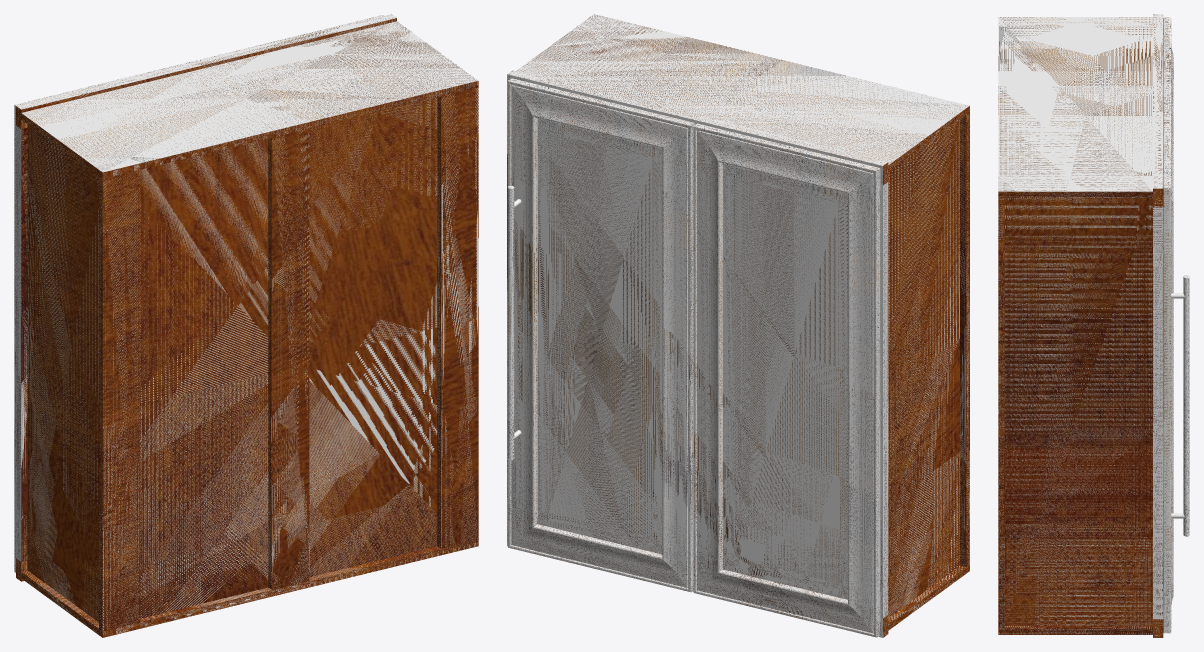
3 views of the same model, side by side, from view 1: azimuth 30°, elevation 25°; view 2: azimuth 150°, elevation 25°; view 3: azimuth 270°, elevation 25° (orthographic). The views are drawn at different scales.
Parts seen in each view (by area): view 1: mesh6_mesh6-geometry, mesh3_mesh3-geometry, mesh7_mesh7-geometry, mesh2_mesh2-geometry, mesh4_mesh4-geometry, mesh8_mesh8-geometry, mesh10_mesh10-geometry, mesh25_mesh25-geometry, mesh20_mesh20-geometry; view 2: mesh16_mesh16-geometry, mesh2_mesh2-geometry, mesh20_mesh20-geometry, mesh21_mesh21-geometry, mesh7_mesh7-geometry, mesh18_mesh18-geometry, mesh19_mesh19-geometry, mesh3_mesh3-geometry, mesh4_mesh4-geometry, mesh12_mesh12-geometry, mesh15_mesh15-geometry, mesh13_mesh13-geometry (+4 smaller); view 3: mesh1_mesh1-geometry, mesh7_mesh7-geometry, mesh4_mesh4-geometry, mesh21_mesh21-geometry, mesh3_mesh3-geometry, mesh10_mesh10-geometry, mesh24_mesh24-geometry, mesh8_mesh8-geometry, mesh18_mesh18-geometry, mesh15_mesh15-geometry, mesh14_mesh14-geometry, mesh12_mesh12-geometry.
Boxes of the visible parts, x1,y1,x2,y2 form: mesh6_mesh6-geometry: (140, 97, 437, 618); mesh3_mesh3-geometry: (99, 87, 478, 631); mesh7_mesh7-geometry: (21, 21, 478, 178); mesh2_mesh2-geometry: (27, 124, 98, 622); mesh4_mesh4-geometry: (16, 126, 27, 561); mesh8_mesh8-geometry: (21, 539, 478, 637); mesh10_mesh10-geometry: (16, 14, 396, 129); mesh25_mesh25-geometry: (215, 143, 249, 265); mesh20_mesh20-geometry: (14, 148, 15, 529); mesh16_mesh16-geometry: (549, 132, 838, 583); mesh2_mesh2-geometry: (888, 120, 959, 617); mesh20_mesh20-geometry: (653, 158, 880, 594); mesh21_mesh21-geometry: (508, 124, 734, 558); mesh7_mesh7-geometry: (516, 14, 969, 171); mesh18_mesh18-geometry: (546, 88, 840, 202); mesh19_mesh19-geometry: (546, 513, 838, 627); mesh3_mesh3-geometry: (960, 112, 969, 566); mesh4_mesh4-geometry: (507, 94, 888, 618); mesh12_mesh12-geometry: (650, 113, 880, 213); mesh15_mesh15-geometry: (508, 78, 735, 177); mesh13_mesh13-geometry: (650, 538, 880, 637); mesh1_mesh1-geometry: (1005, 198, 1152, 625); mesh7_mesh7-geometry: (998, 17, 1152, 197); mesh4_mesh4-geometry: (1153, 207, 1163, 619); mesh21_mesh21-geometry: (1163, 132, 1173, 592); mesh3_mesh3-geometry: (998, 198, 1004, 628); mesh10_mesh10-geometry: (1153, 14, 1163, 207); mesh24_mesh24-geometry: (1183, 275, 1189, 536); mesh8_mesh8-geometry: (998, 625, 1152, 634); mesh18_mesh18-geometry: (1163, 35, 1173, 195); mesh15_mesh15-geometry: (1163, 84, 1173, 229); mesh14_mesh14-geometry: (1163, 580, 1173, 633); mesh12_mesh12-geometry: (1163, 17, 1173, 146).
Bounding box in the file's own units: 0.6137 × 0.7364 × 0.2847.
